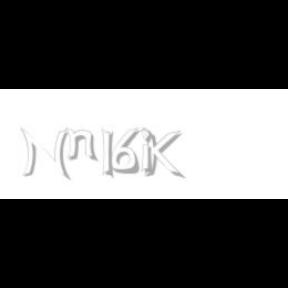6: (110, 128, 140, 176)
K: (142, 128, 182, 180)
N: (20, 128, 68, 180)
i: (140, 128, 156, 176)
l: (102, 128, 118, 180)
n: (65, 128, 99, 162)
